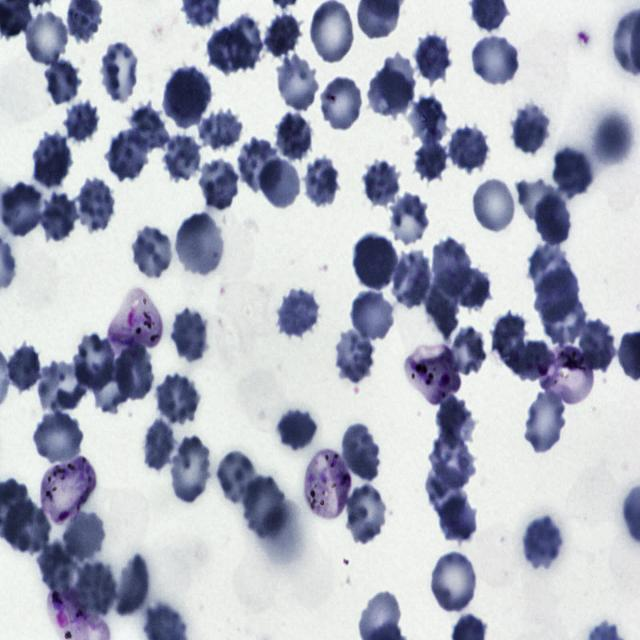red blood cell: (490, 312, 553, 380), (308, 0, 355, 65), (173, 212, 222, 274), (164, 66, 212, 127), (243, 476, 288, 539), (35, 359, 86, 414), (4, 499, 52, 557), (431, 552, 476, 612), (32, 409, 82, 463), (524, 390, 566, 453), (533, 267, 580, 323), (171, 436, 210, 503), (72, 334, 116, 392), (428, 436, 477, 488), (153, 373, 201, 426), (352, 234, 397, 290), (431, 236, 472, 297), (236, 138, 282, 192), (340, 423, 382, 482), (543, 292, 588, 347), (276, 54, 320, 110), (22, 12, 68, 65), (333, 328, 376, 384), (89, 358, 132, 414), (426, 463, 466, 523), (169, 306, 210, 364), (346, 484, 386, 543), (472, 36, 519, 86), (276, 287, 321, 339), (75, 177, 116, 234), (529, 244, 573, 297), (521, 516, 564, 570), (392, 250, 432, 308), (31, 133, 73, 188), (474, 179, 516, 234), (74, 560, 116, 615), (350, 288, 394, 340), (106, 131, 150, 182), (101, 42, 137, 103), (216, 451, 259, 502), (510, 103, 551, 156), (115, 344, 153, 401), (62, 512, 106, 561), (518, 177, 562, 226), (446, 124, 489, 174), (433, 396, 476, 446), (320, 77, 362, 128), (207, 26, 252, 73), (367, 70, 411, 118), (274, 111, 315, 162), (378, 54, 416, 109), (592, 113, 632, 165), (198, 107, 244, 152), (363, 155, 402, 208), (258, 160, 300, 209), (435, 494, 477, 543), (263, 11, 304, 61), (127, 102, 168, 152), (413, 32, 452, 84), (117, 553, 150, 614), (552, 147, 593, 196), (2, 184, 40, 236), (228, 13, 262, 71), (6, 343, 43, 396), (391, 193, 428, 246), (199, 157, 237, 208), (132, 226, 170, 277), (162, 132, 200, 182), (533, 193, 571, 243), (39, 194, 77, 244), (38, 542, 76, 592), (304, 155, 338, 208), (580, 318, 614, 371), (44, 58, 82, 105), (449, 326, 486, 374), (410, 96, 446, 144), (143, 419, 176, 470), (455, 268, 494, 310), (276, 410, 316, 450), (63, 101, 100, 144), (411, 139, 448, 182)
ring: (38, 457, 97, 523)
trophozoite: (405, 341, 460, 408), (303, 447, 352, 518), (106, 288, 162, 350), (536, 348, 594, 402)
